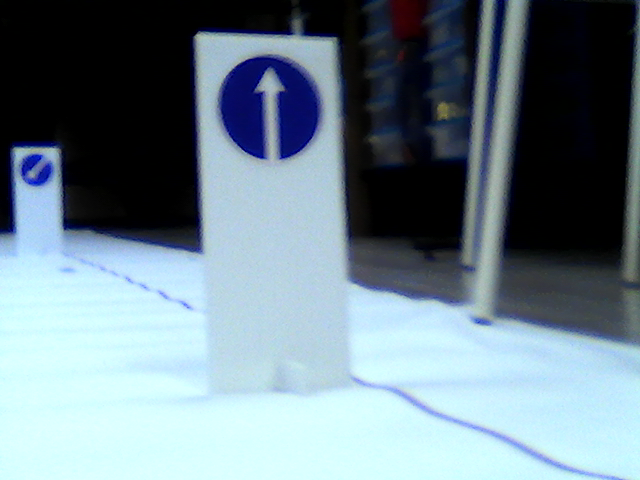forw: (218, 51, 324, 169)
